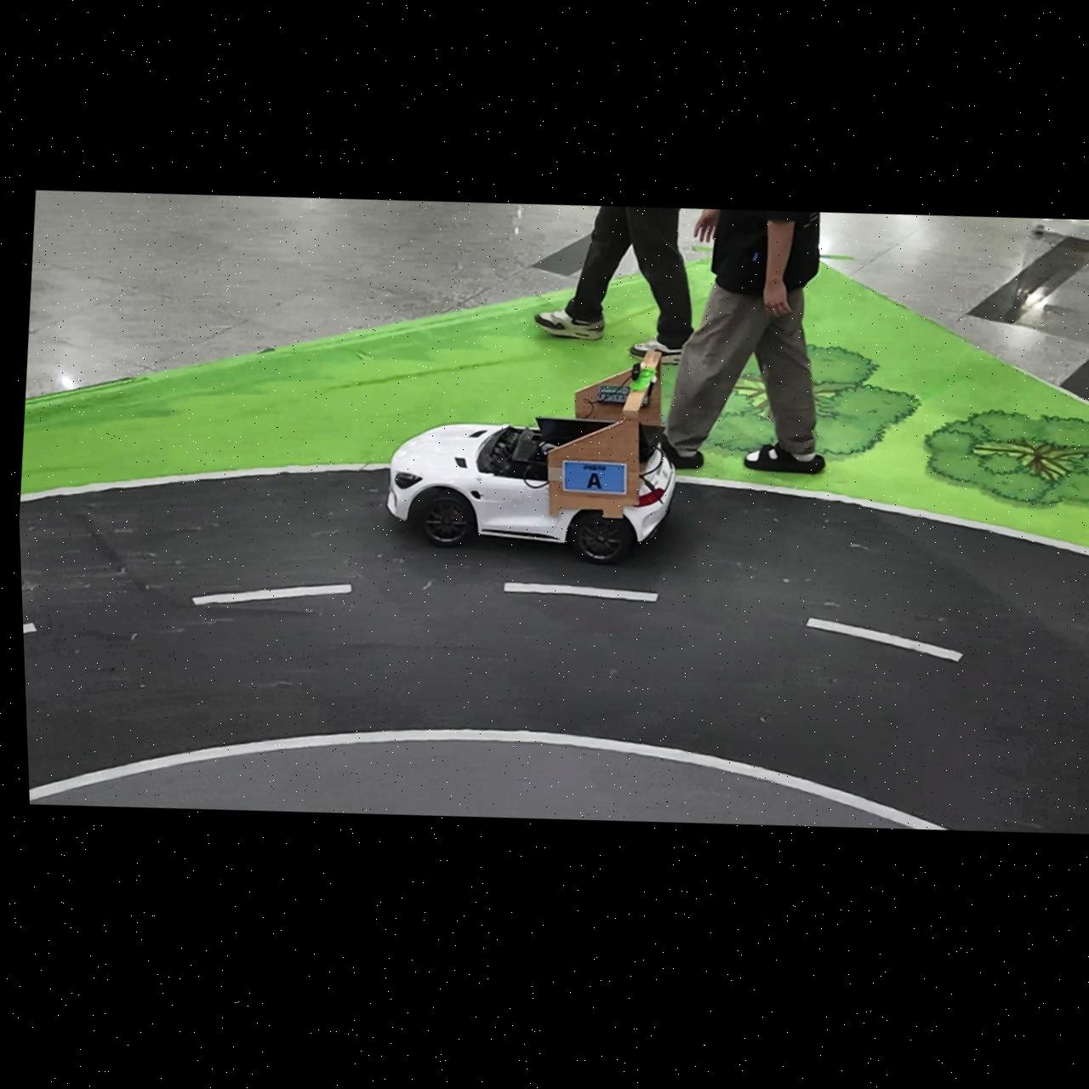broken_line: (805, 618, 964, 663), (193, 584, 352, 605), (504, 583, 659, 602), (23, 623, 37, 633)
